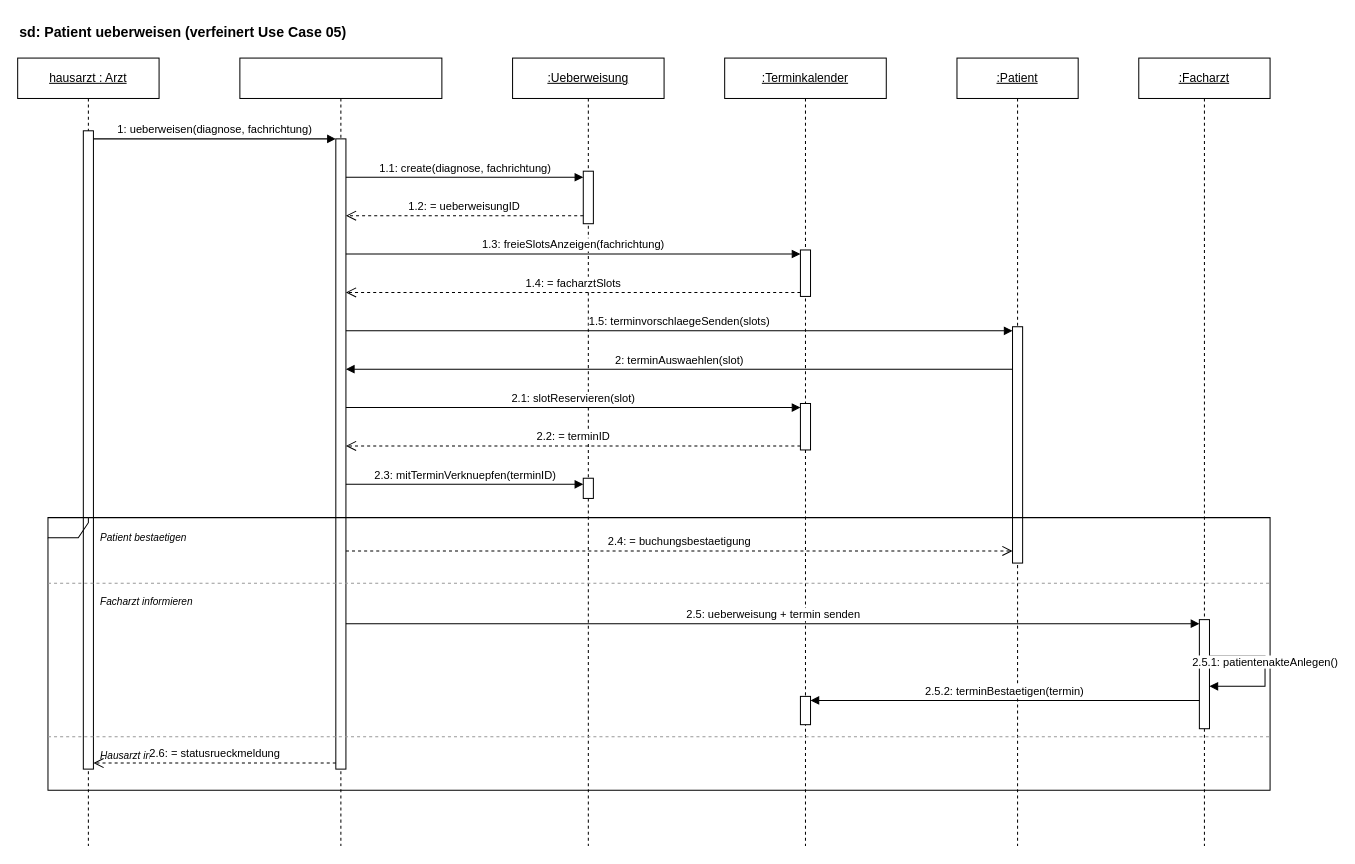
The diagram is 1355 pixels wide and 864 high, and some of its shapes have lost their labels. The box of each missing label's shape, as (x1, y1, x2, y2) in pixels:
:Terminbuchungsplattform: (239, 57, 442, 846)
par: (47, 517, 1270, 790)
